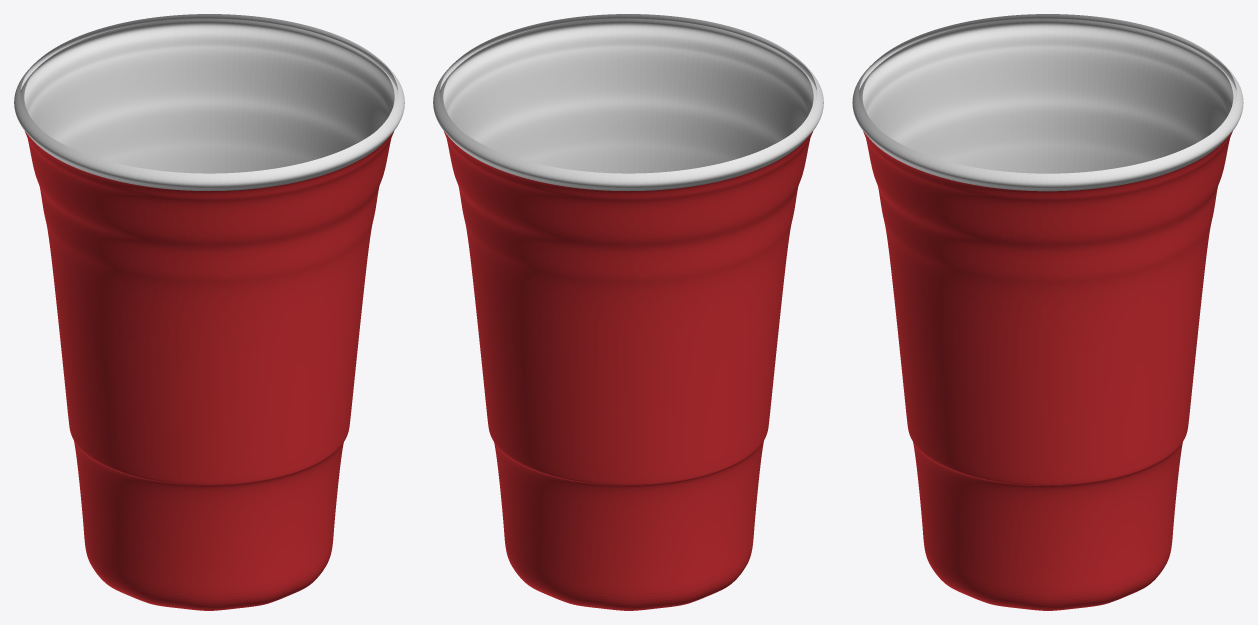
File: cup-nocollide.fbx
3 views of the same model, side by side, from view 1: azimuth 30°, elevation 25°; view 2: azimuth 150°, elevation 25°; view 3: azimuth 270°, elevation 25° (orthographic).
Visible parts, largest first — view 1: Cup, CupInside; view 2: Cup, CupInside; view 3: Cup, CupInside.
Boxes of the visible parts, left/top/right/bottom form: Cup: left=14, top=14, right=404, bottom=610; CupInside: left=20, top=18, right=398, bottom=173; Cup: left=433, top=14, right=823, bottom=610; CupInside: left=439, top=18, right=817, bottom=173; Cup: left=852, top=14, right=1243, bottom=610; CupInside: left=859, top=18, right=1236, bottom=173.
Bounding box in the file's own units: 8.63 × 11.7 × 8.63.
